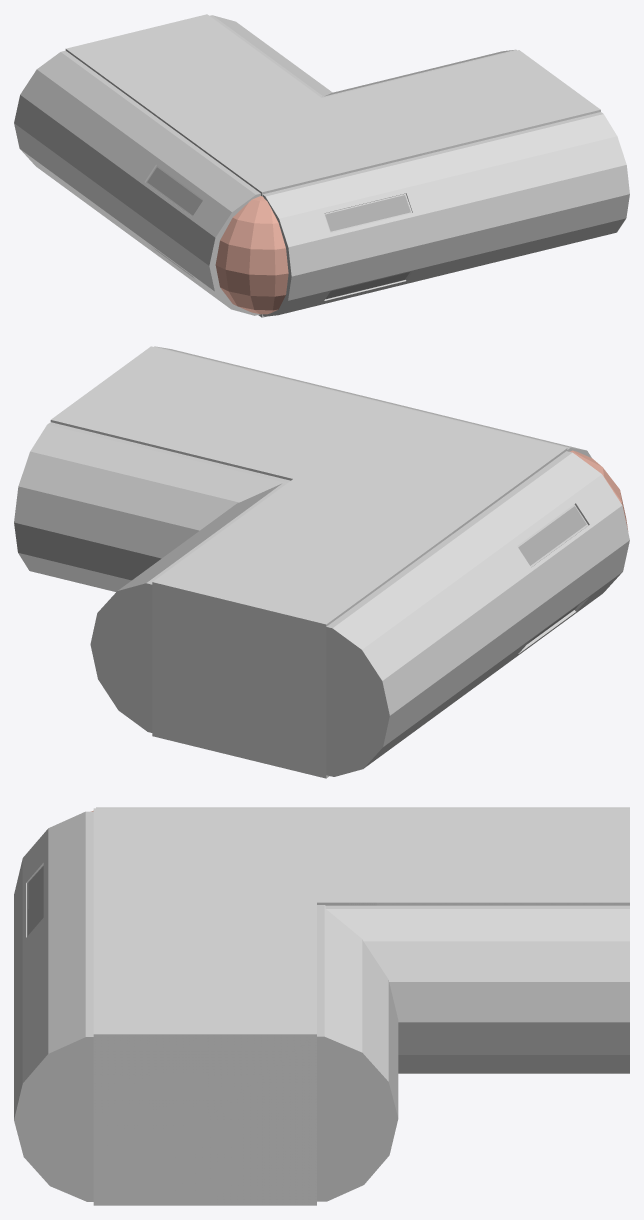
3 views of the same model, one above another, from view 1: azimuth 30°, elevation 25°; view 2: azimuth 150°, elevation 25°; view 3: azimuth 270°, elevation 25° (orthographic). The views are drawn at different scales.
Parts seen in each view (by area): view 1: Sphere_2; view 2: Sphere_2; view 3: Sphere_2.
Boxes of the visible parts, x1,y1,x2,y2 form: Sphere_2: [14, 14, 629, 317]; Sphere_2: [14, 346, 629, 778]; Sphere_2: [14, 807, 629, 1205].
Size of the model in its own units: 946 by 290 by 945.
